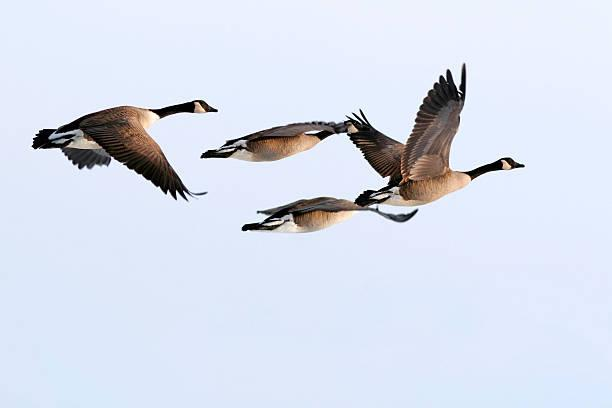Canadian-Goose: (34, 97, 212, 200), (346, 104, 527, 205), (257, 184, 378, 238), (200, 115, 341, 158)
